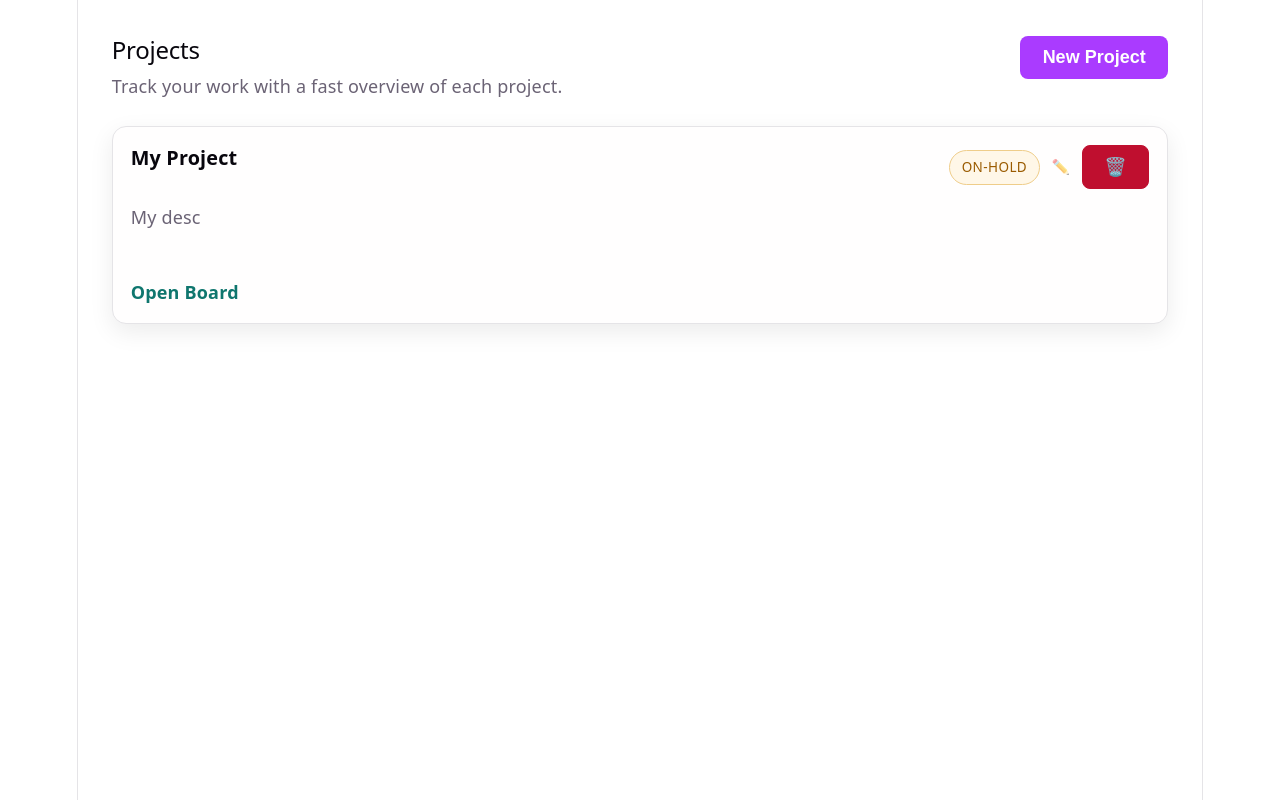
Test: Dashboard › pre-populates the edit modal form with the existing project data
The width and height of the screenshot is (1280, 800).
Expected: the heading "My Project" is shown, [131, 145, 237, 172]
What coordinates should you click on to do the following:
click the button named "Edit My Project"
I would click on:
 (1061, 167)
Its box is [1047, 157, 1074, 177].
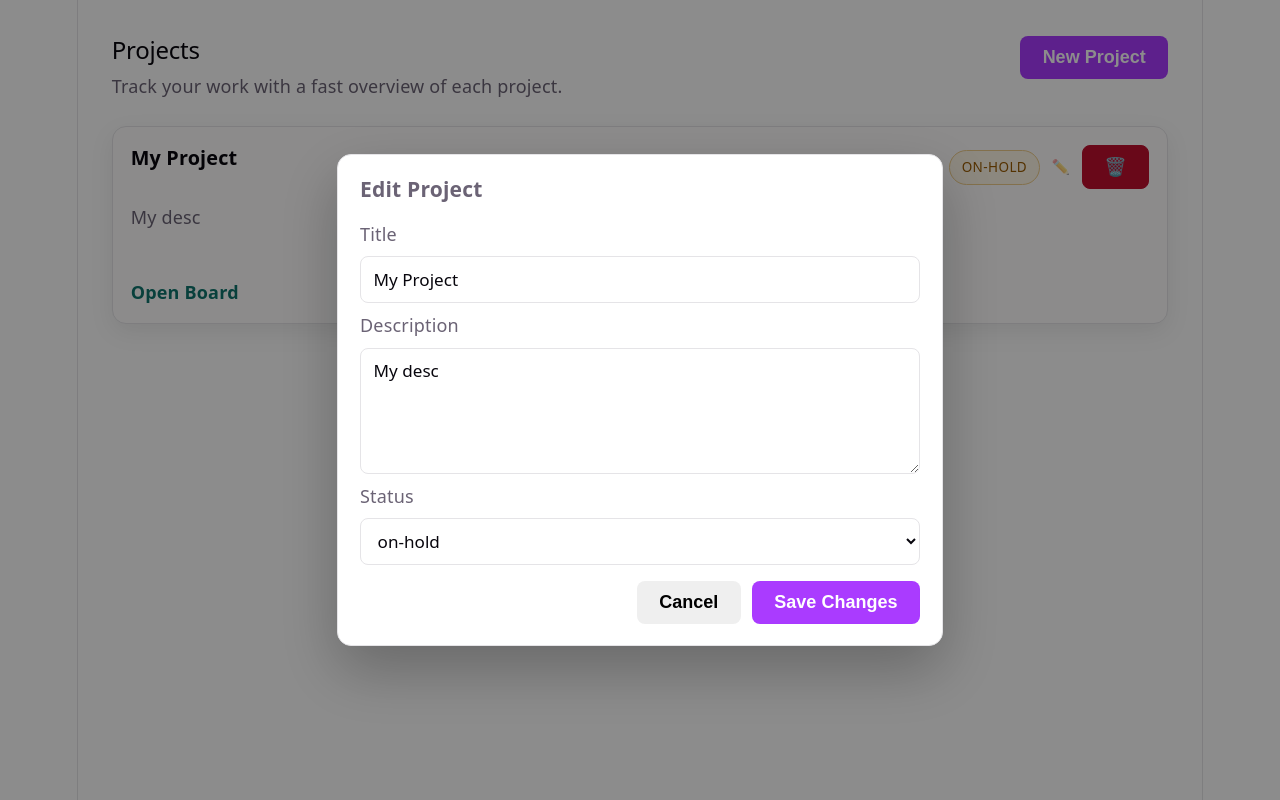
Result: the field labelled "Title" holds "My Project" at [360, 256, 920, 304]
Result: the text box labelled "Description" holds "My desc" at [360, 348, 920, 474]
Result: the dropdown labelled "Status" shows "on-hold" at [360, 518, 920, 565]
